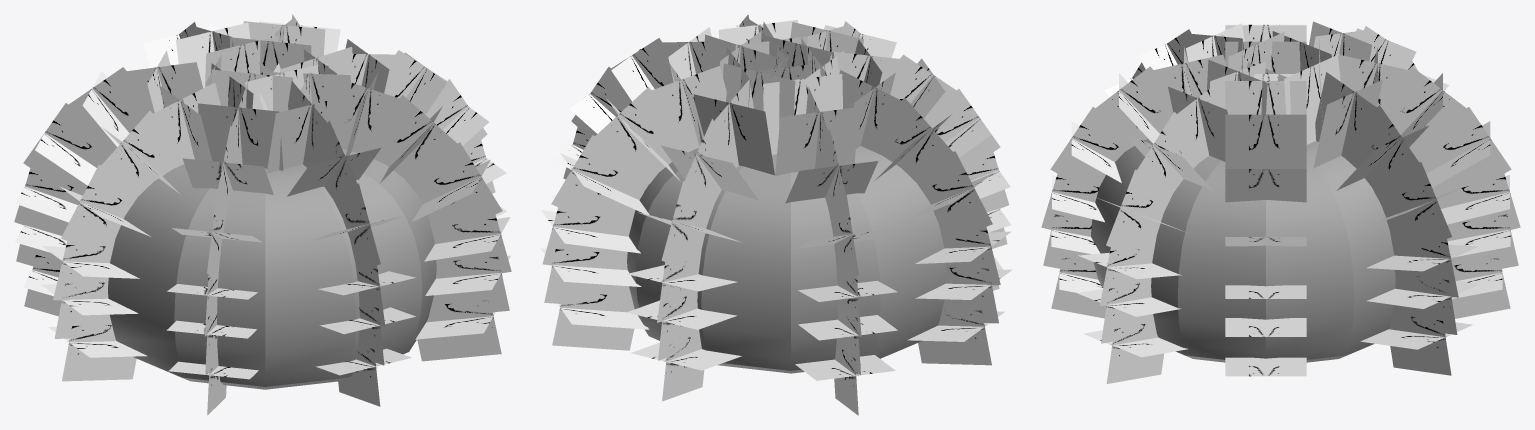
Rendered from Asset_Cactus1_5.fbx.
3 views of the same model, side by side, from view 1: azimuth 30°, elevation 25°; view 2: azimuth 150°, elevation 25°; view 3: azimuth 270°, elevation 25° (orthographic). The views are drawn at different scales.
Visible parts, largest first — view 1: pPlane16; view 2: pPlane16; view 3: pPlane16.
Part boxes in pixels (<box>): pPlane16: <box>14,14,511,415</box>; pPlane16: <box>540,14,1012,415</box>; pPlane16: <box>1041,21,1520,383</box>.
Size of the model in its own units: 4.51 by 2.74 by 4.35.
